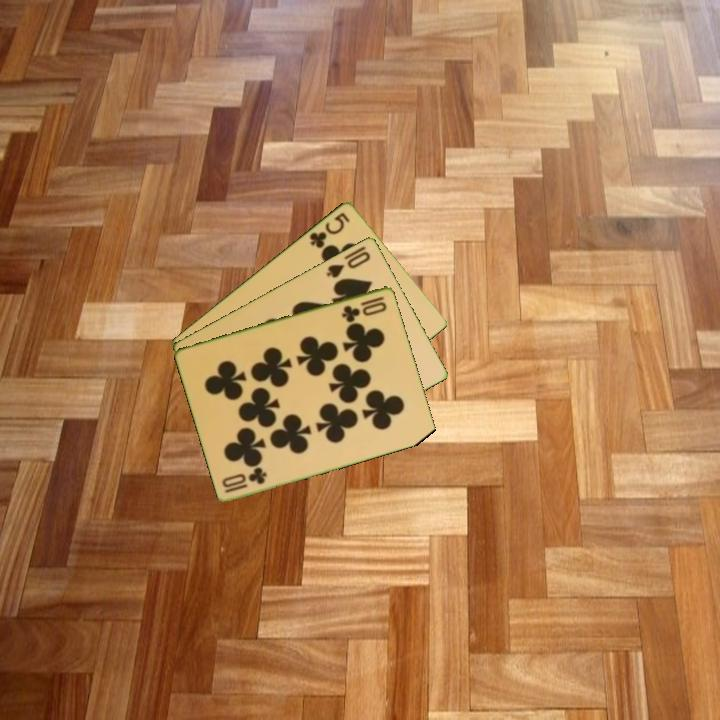10c: (338, 292, 390, 324), (221, 464, 270, 496)
10s: (323, 247, 373, 281)
5c: (306, 208, 353, 251)
